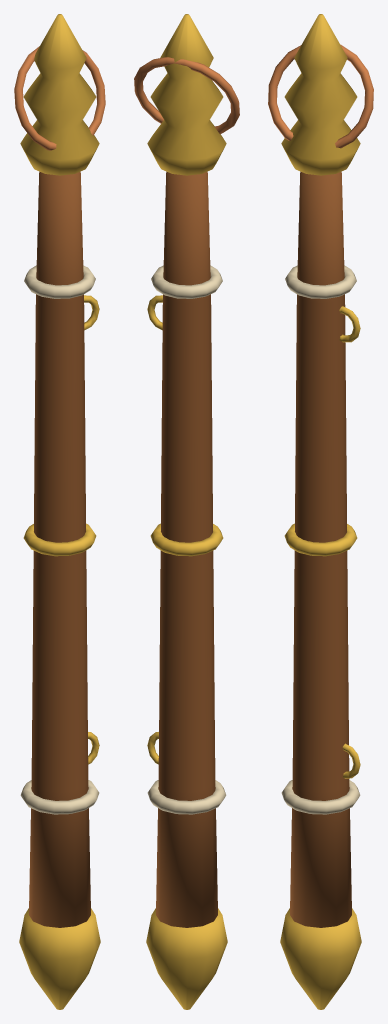
File: flag_gate_staff.glb
The picture shows the model from 3 angles, left to right: view 1: azimuth 30°, elevation 25°; view 2: azimuth 150°, elevation 25°; view 3: azimuth 330°, elevation 25°; orthographic projection.
Visible parts, largest first — view 1: FlagGateMast; view 2: FlagGateMast; view 3: FlagGateMast.
Part boxes in pixels (bbox=[...]): FlagGateMast: bbox=[14, 14, 105, 1009]; FlagGateMast: bbox=[134, 14, 239, 1009]; FlagGateMast: bbox=[268, 14, 373, 1009].
Size of the model in its own units: 0.5174 by 5.1 by 0.38.
